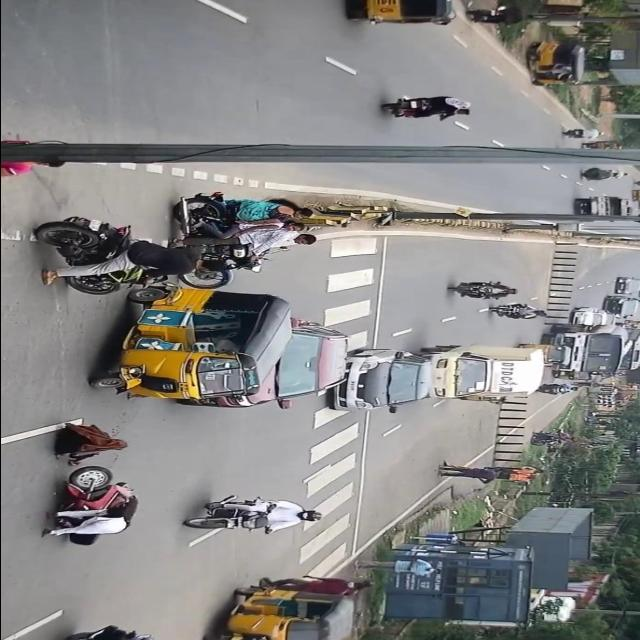accident: (26, 414, 151, 550)
non_accident: (320, 341, 557, 414), (538, 304, 634, 396), (597, 271, 640, 321), (629, 184, 640, 213)
